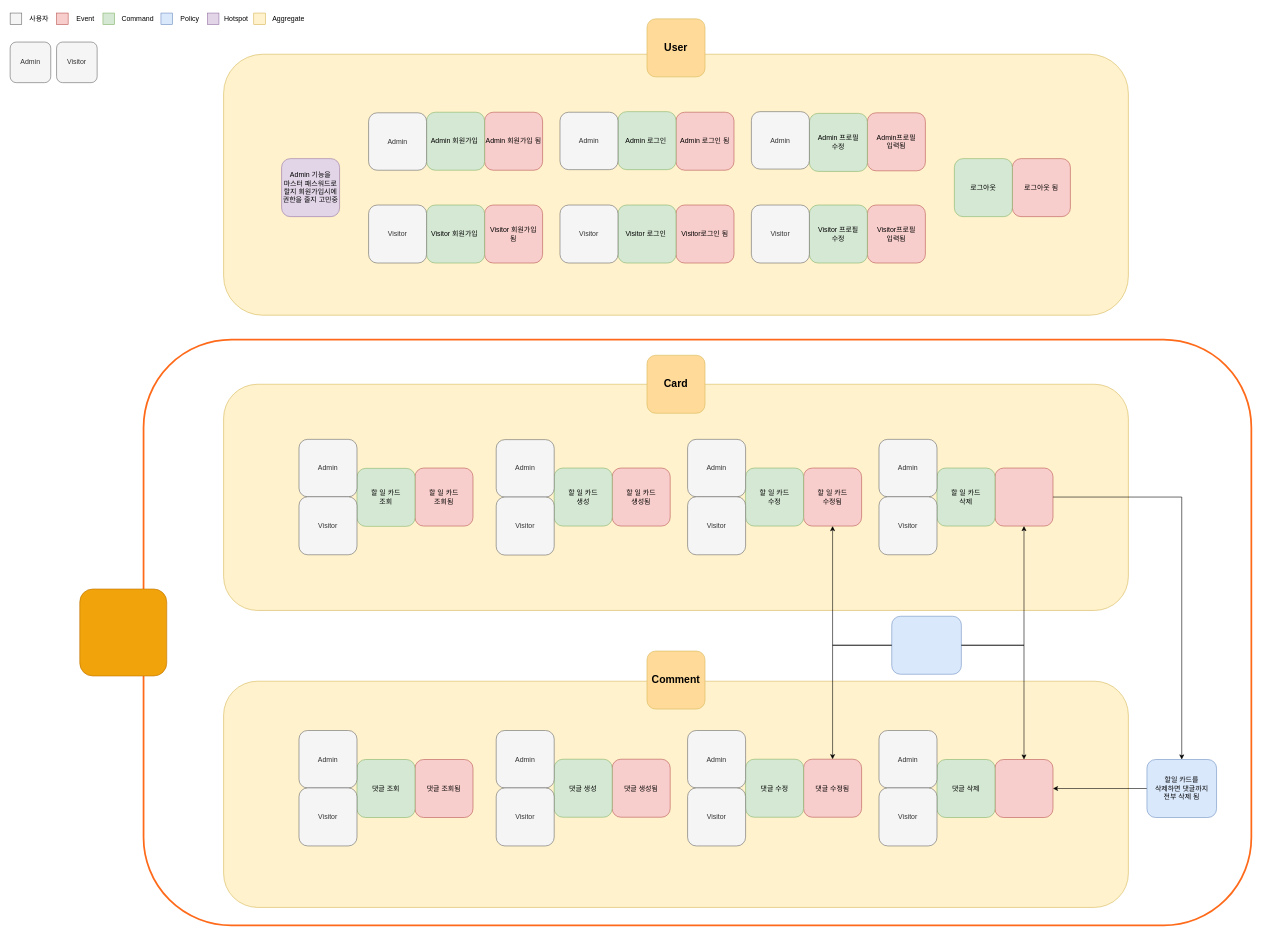
Image size: 1262x936. Some labels were removed from this diagram. The centre of each missing label's shape, as x and y in pixels:
TodoCard Aggregate: the point at 123,632
댓글 삭제됨: the point at 1023,788
할 일 카드 삭제됨: the point at 1023,496
할일카드,댓글은 Admin을 제외하고 본인만 수정, 삭제 가능: the point at 926,645
